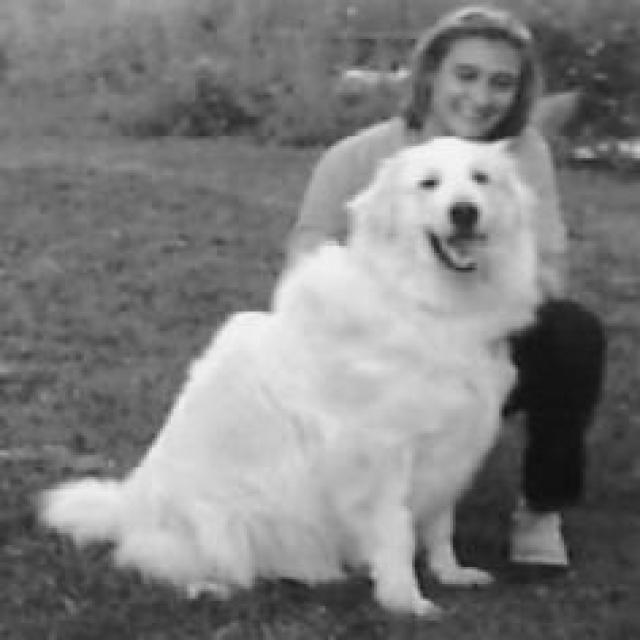sitting: (30, 132, 560, 622)
